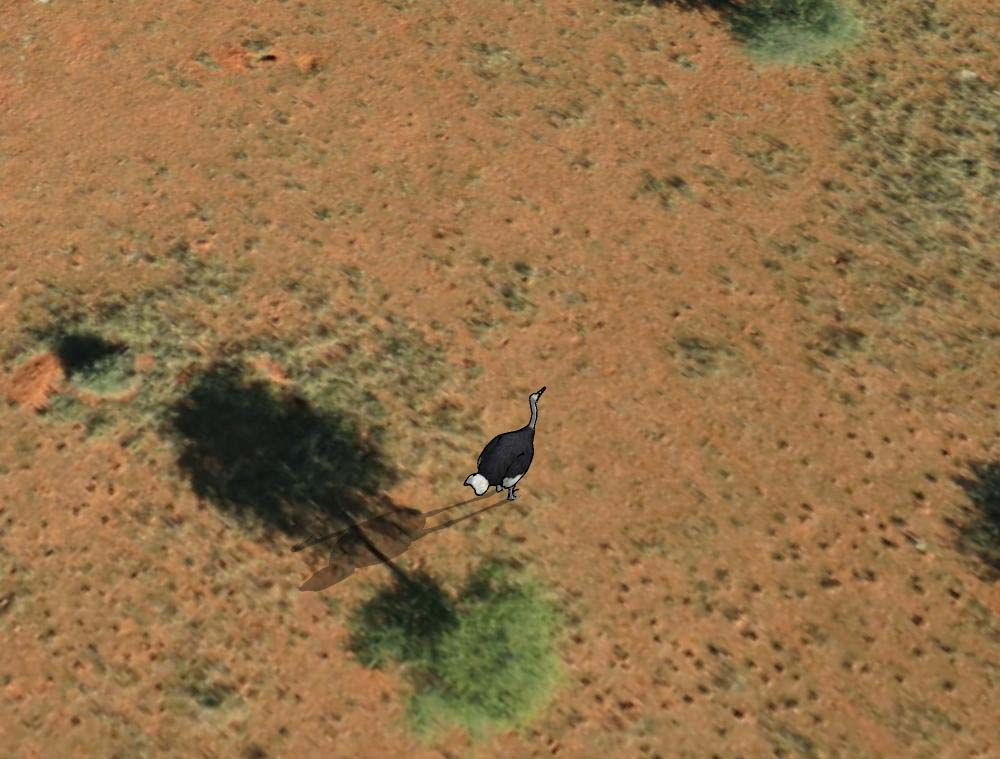ostrich: (461, 385, 547, 500)
